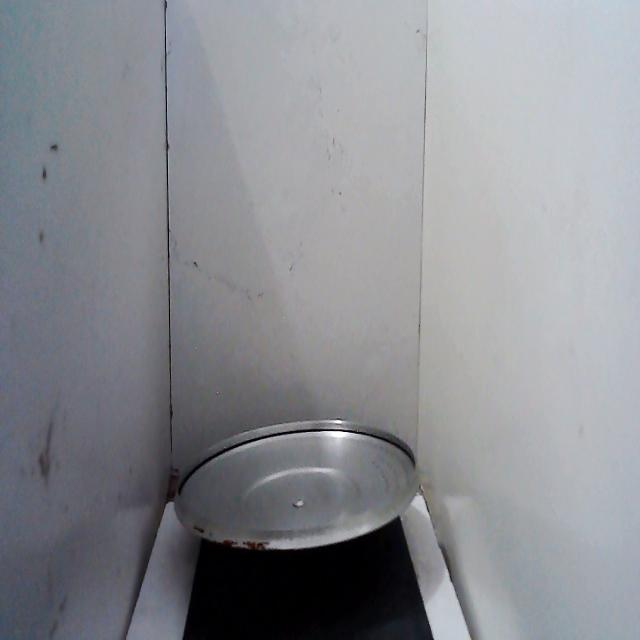metal: (170, 407, 424, 575)
